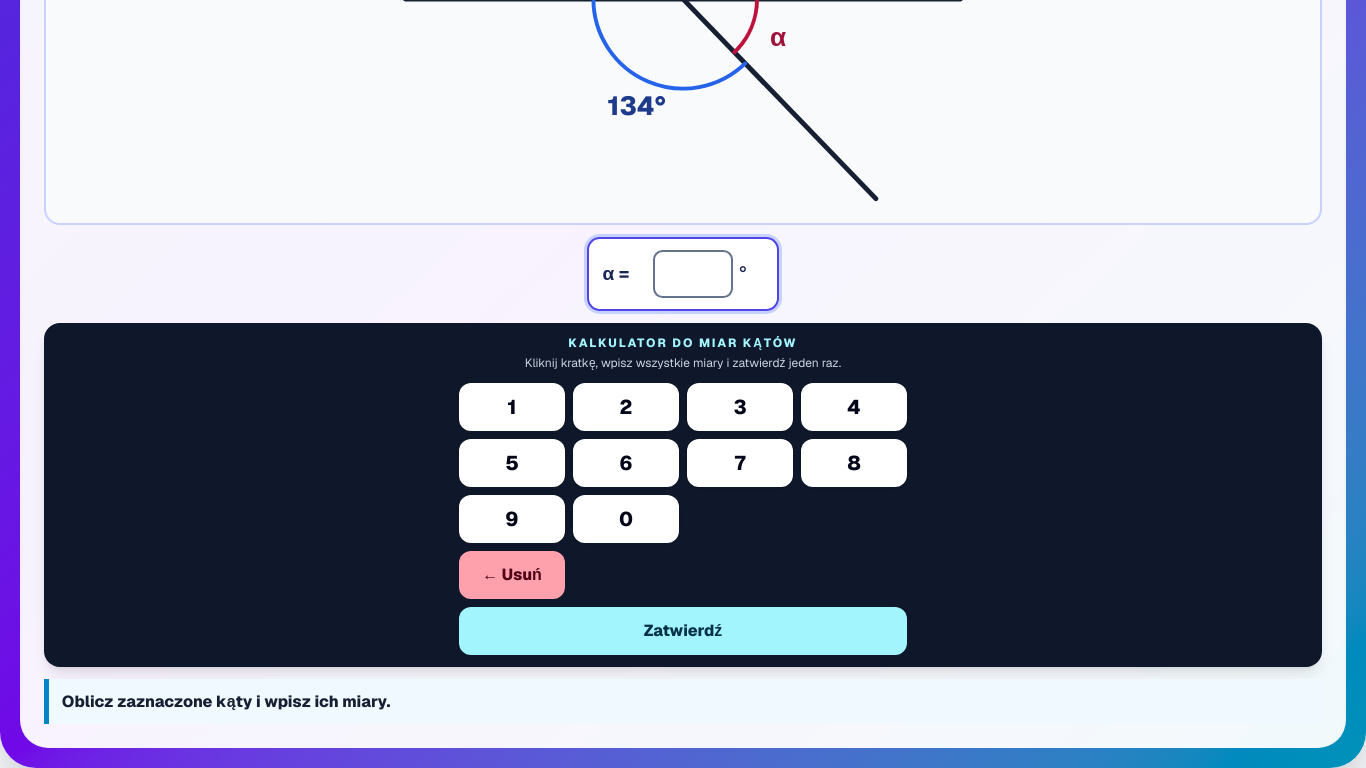
Scenario: WP-S4-04 — lokalny geometry-lab przecięcia prostych › prowadzi serię różnych zadań z jednym kalkulatorem i automatycznym przejściem
(page scrolled)
Check: the text "134°" is shown, box [607,90,666,124]
What coordinates should you click on to do the following:
click the button "4"
I would click on:
 (854, 407)
Its box is [801,383,907,431].
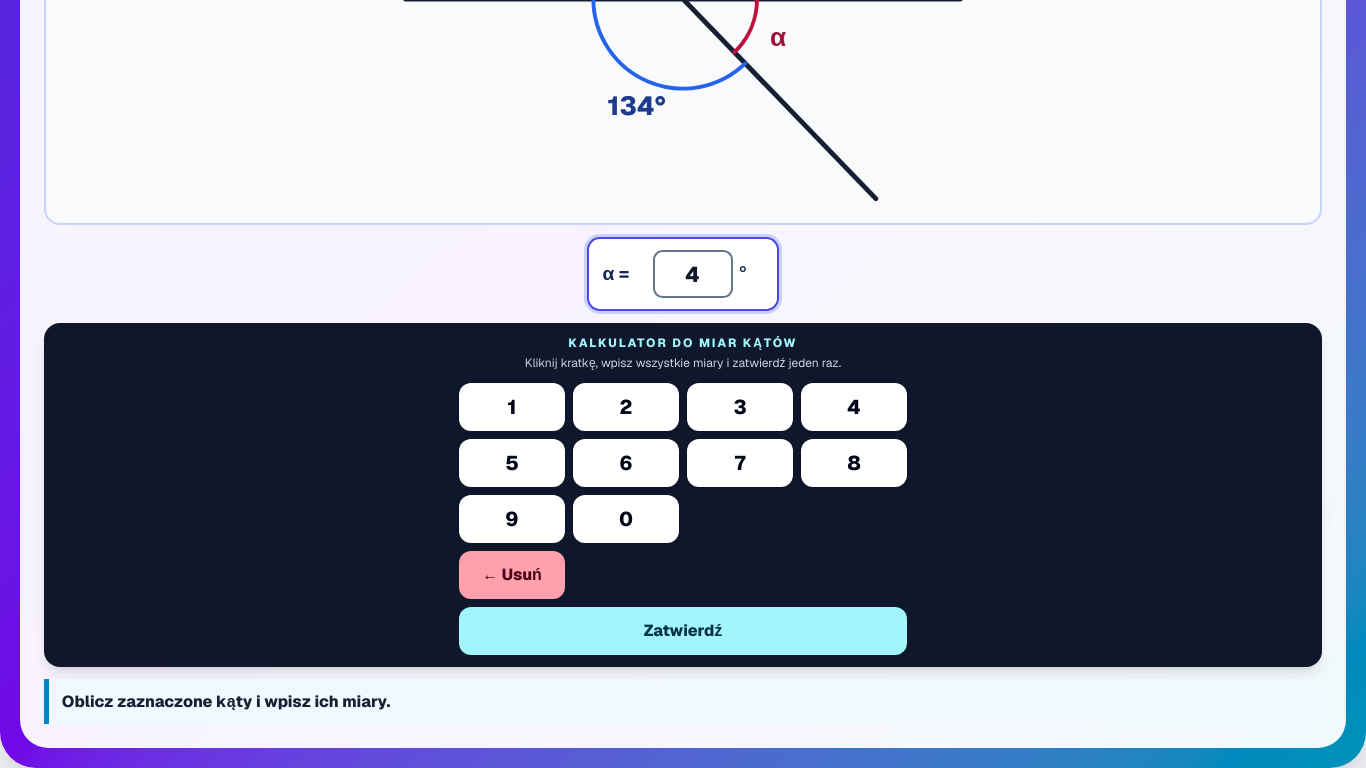
What coordinates should you click on to do the following:
click the button "5"
I would click on:
 (512, 463)
Its box is [459,439,565,487].
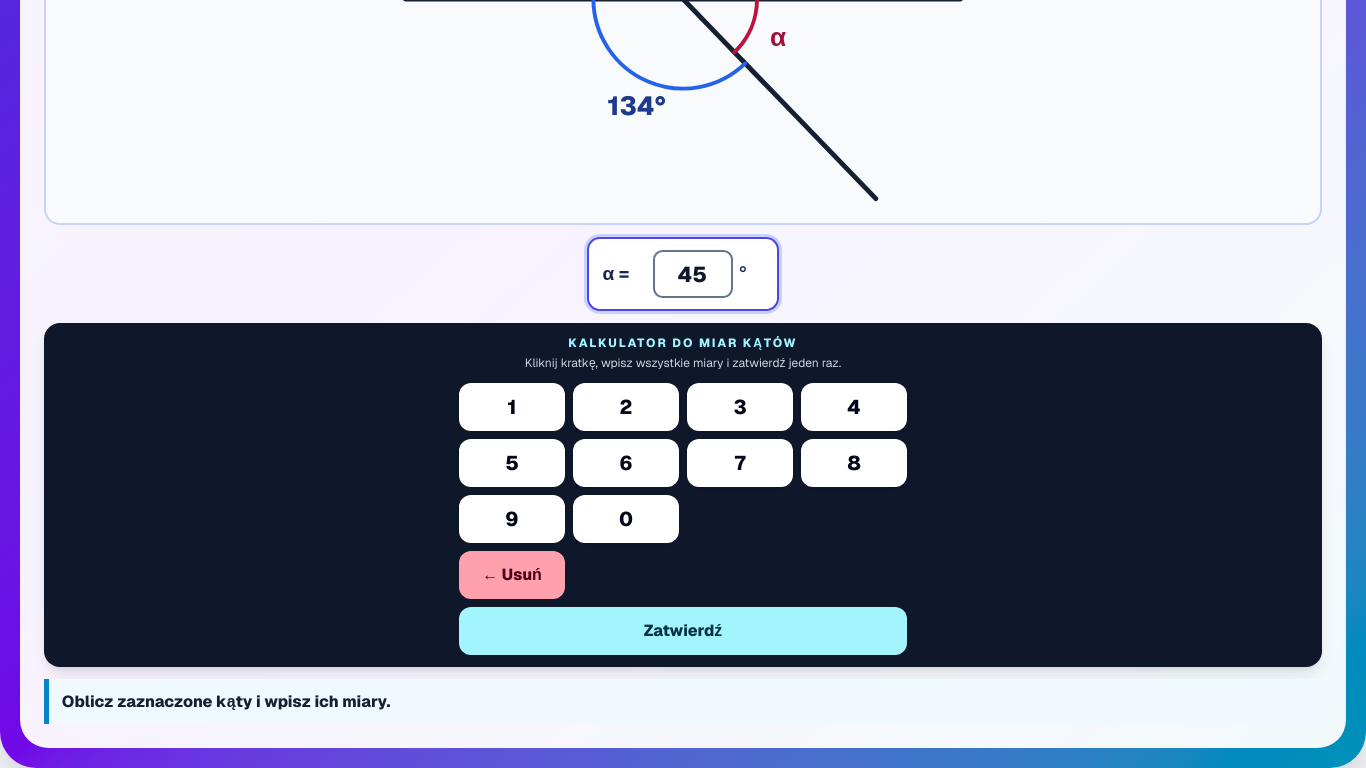
What coordinates should you click on to do the following:
click the button "Zatwierdź"
I would click on:
 (683, 631)
Its box is [459,607,907,655].
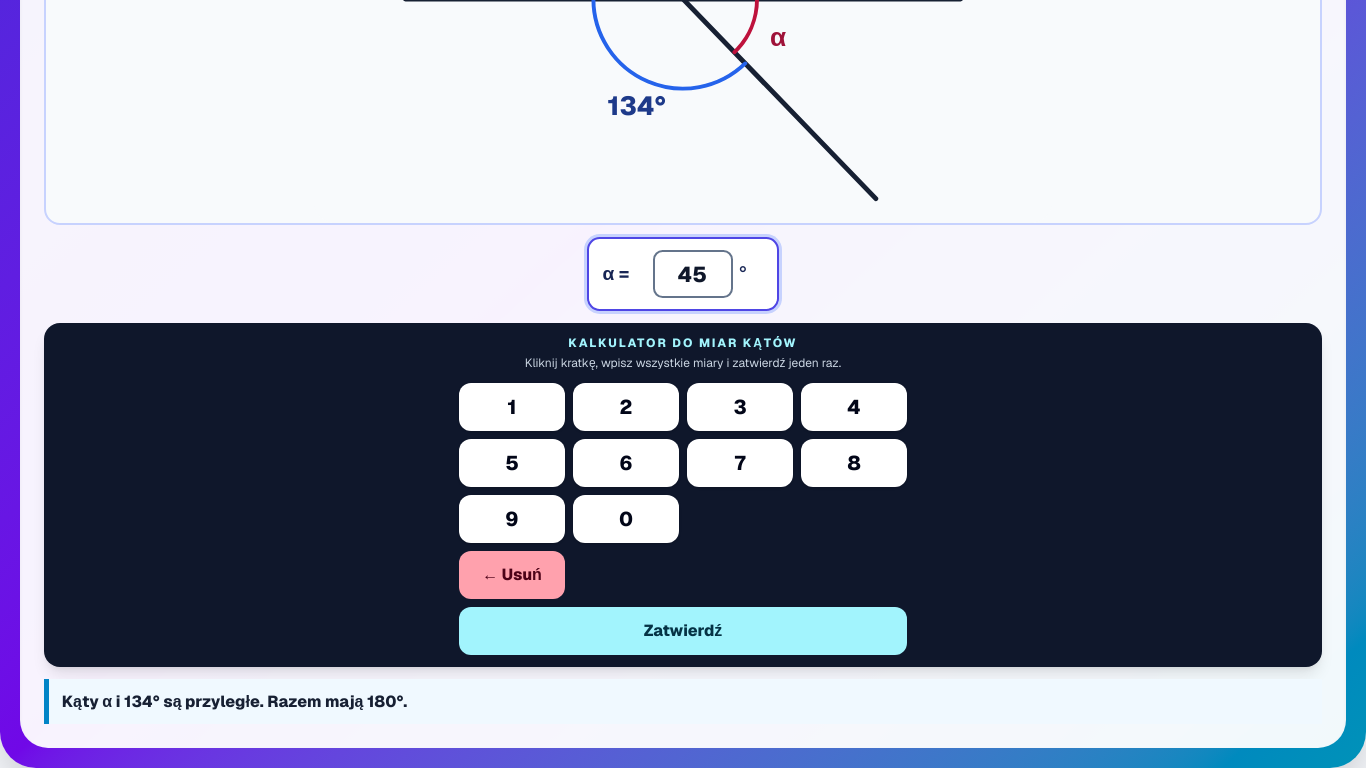
Check: the message shows "Razem mają 180°", box [62,691,407,712]
What coordinates should you click on to do the following:
click the button "← Usuń"
I would click on:
 (512, 575)
Its box is [459,551,565,599].
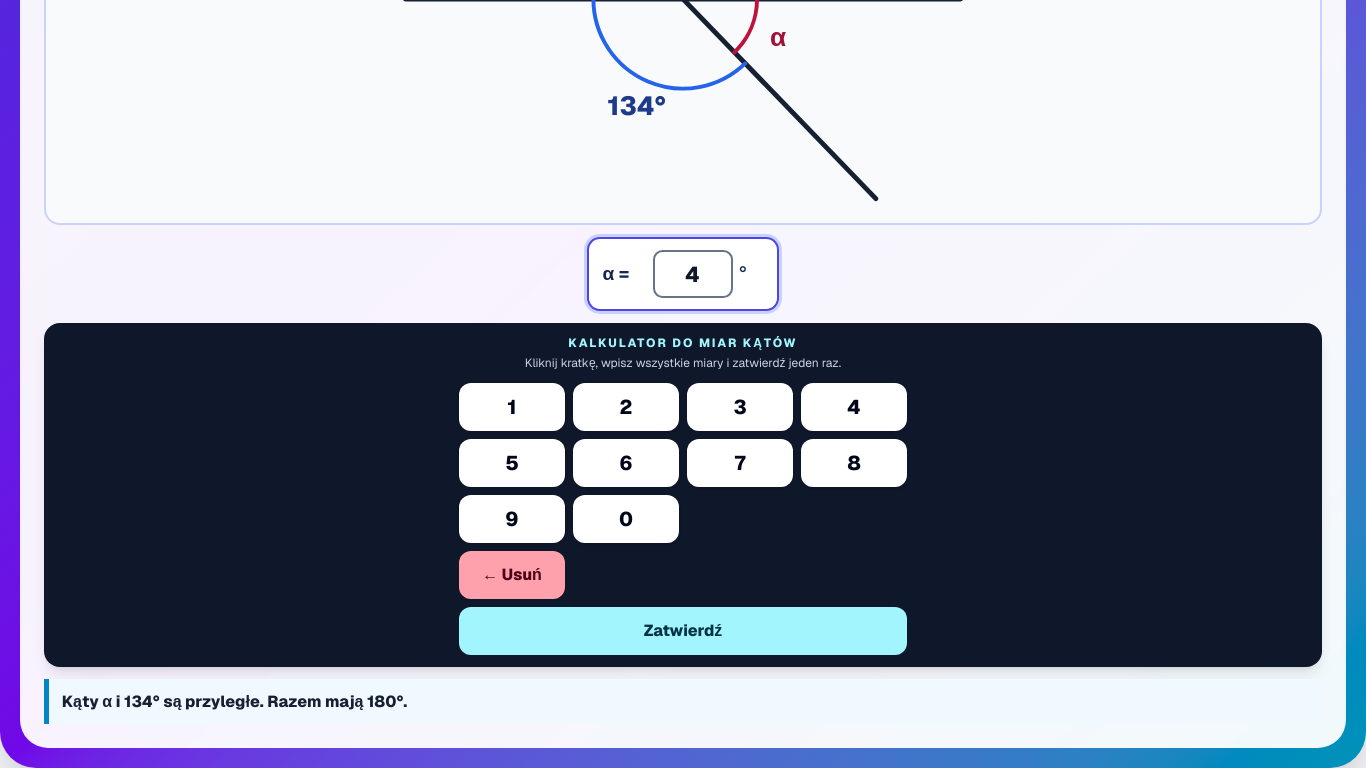
What coordinates should you click on to do the following:
click the button "6"
I would click on:
 (626, 463)
Its box is [573,439,679,487].
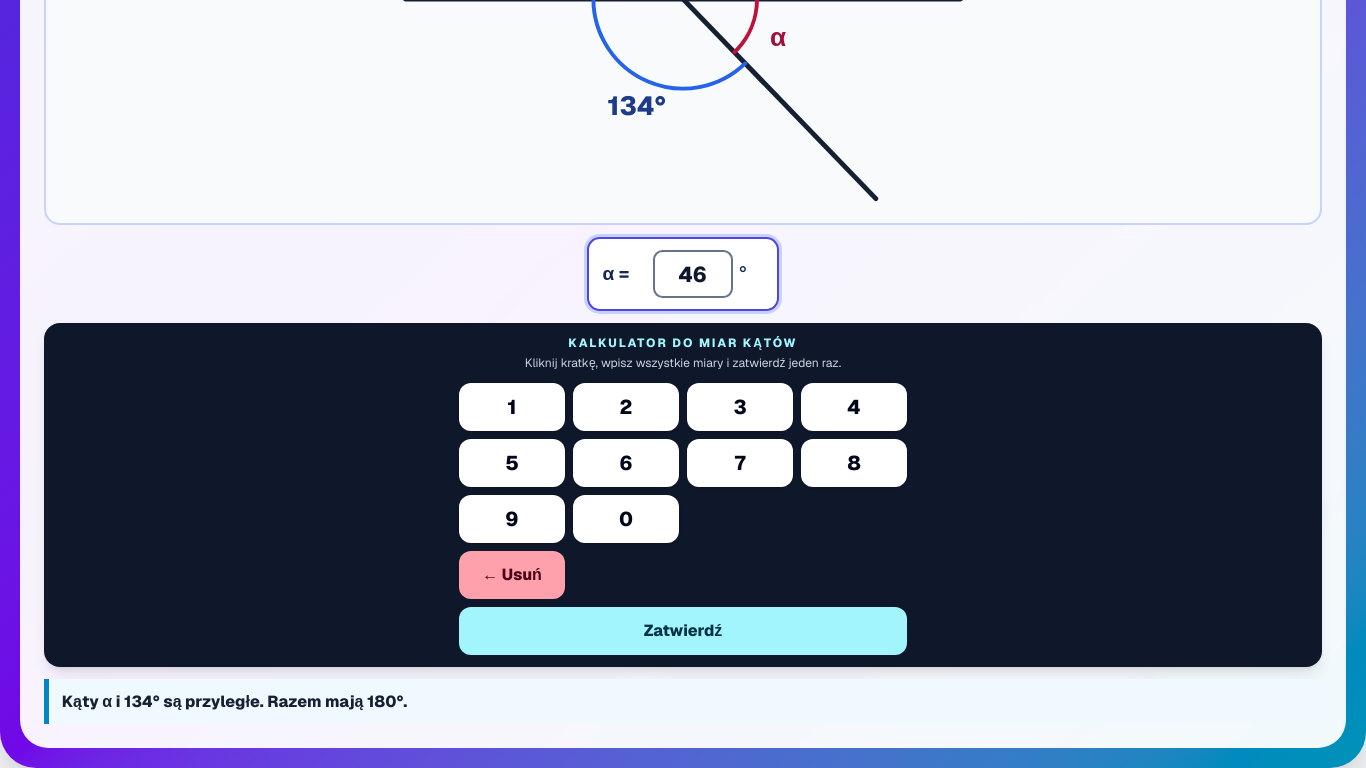
What coordinates should you click on to do the following:
click the button "Zatwierdź"
I would click on:
 (683, 631)
Its box is [459,607,907,655].
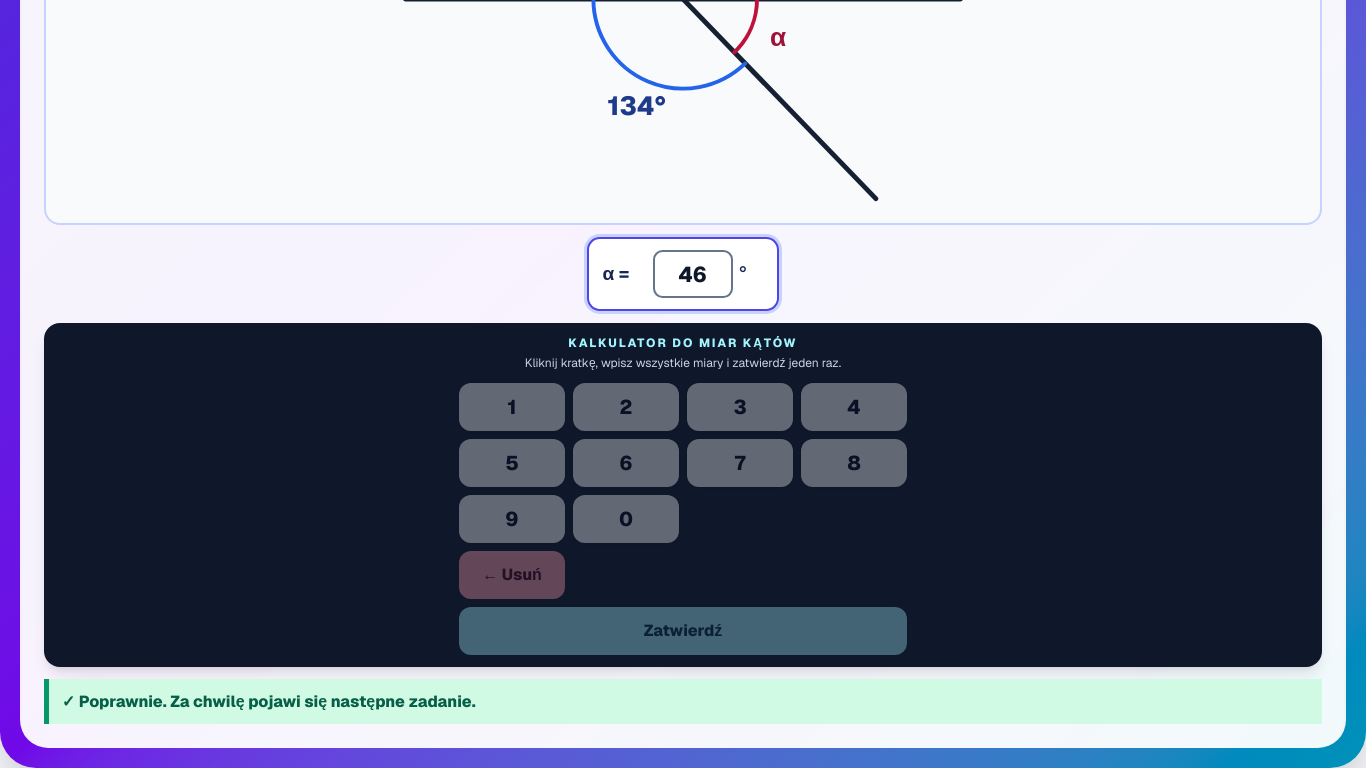
Check: the message shows "Poprawnie", box [62,691,476,712]
